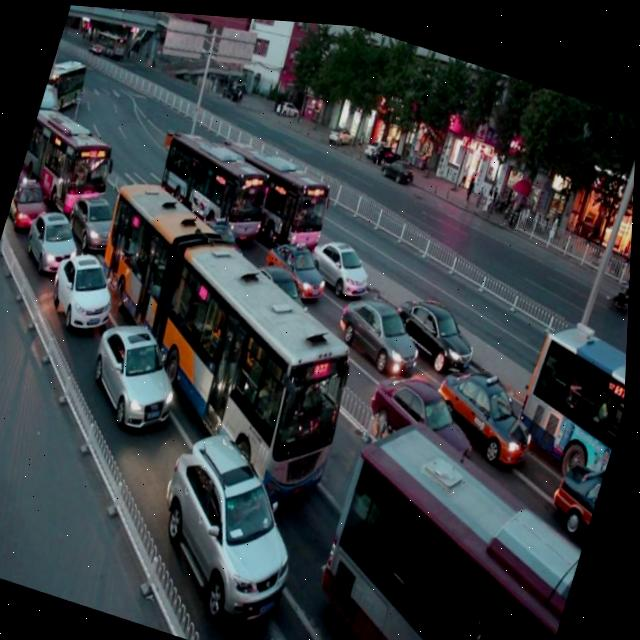car: (138, 412, 326, 640), (80, 300, 198, 441), (424, 346, 551, 469), (363, 353, 490, 469), (330, 276, 433, 377), (390, 278, 489, 370), (44, 238, 127, 339), (258, 223, 337, 303), (545, 442, 611, 534), (303, 219, 379, 298), (248, 247, 320, 325), (23, 200, 89, 280), (185, 206, 256, 278), (67, 184, 125, 250), (6, 166, 57, 234)
van: (50, 161, 394, 511), (298, 398, 607, 640), (510, 302, 631, 467), (146, 113, 283, 253), (206, 125, 344, 257), (16, 96, 125, 216)
